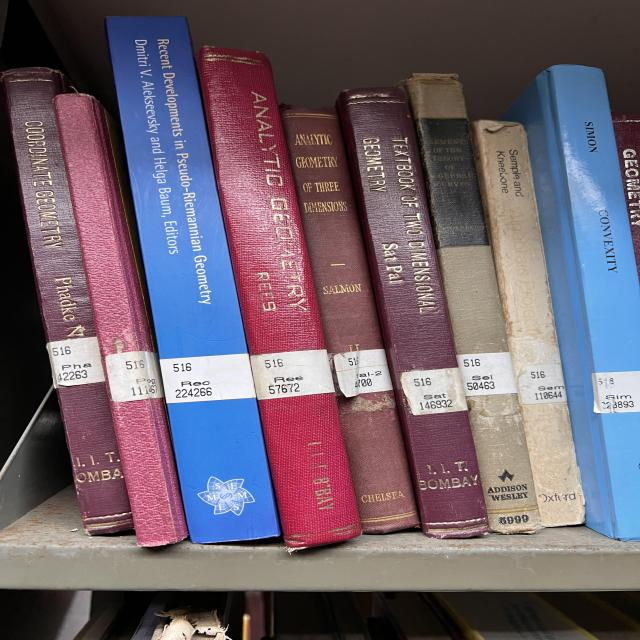Book: (107, 16, 280, 542), (197, 46, 360, 550), (338, 88, 488, 539), (503, 65, 640, 541), (405, 75, 540, 534), (2, 68, 133, 535), (280, 105, 420, 534), (55, 94, 187, 546), (472, 120, 585, 526), (612, 112, 640, 272)
Label: (160, 354, 257, 404), (250, 349, 335, 400), (400, 368, 468, 415), (47, 336, 105, 388), (105, 351, 163, 402), (333, 349, 393, 398), (457, 352, 517, 396), (592, 371, 640, 414), (518, 364, 567, 405)
